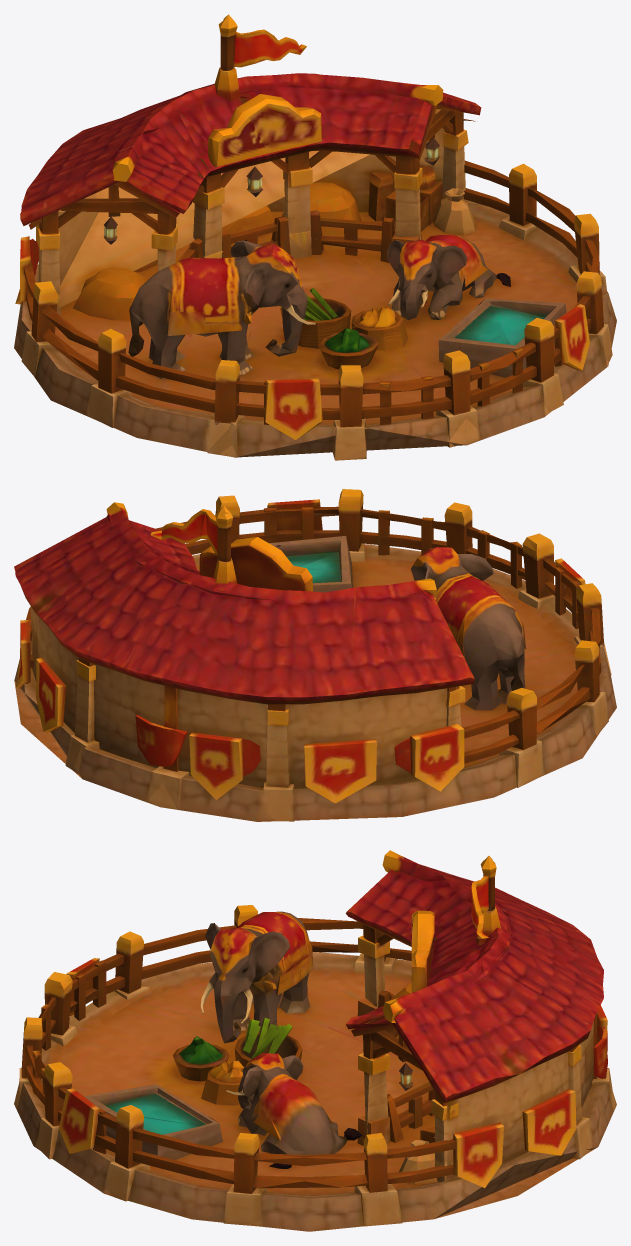
The model's file is elephant_stables.glb.
The picture shows the model from 3 angles, top to bottom: view 1: azimuth 30°, elevation 25°; view 2: azimuth 150°, elevation 25°; view 3: azimuth 270°, elevation 25°; orthographic projection.
Parts seen in each view (by area): view 1: mesh_000; view 2: mesh_000; view 3: mesh_000.
Boxes of the visible parts, left/top/right/bottom form: mesh_000: left=14, top=14, right=616, bottom=460; mesh_000: left=14, top=489, right=616, bottom=821; mesh_000: left=14, top=850, right=616, bottom=1231.
Bounding box in the file's own units: 0.9653 × 0.4414 × 0.9634.
Materials: 1 (1 with a texture image).
